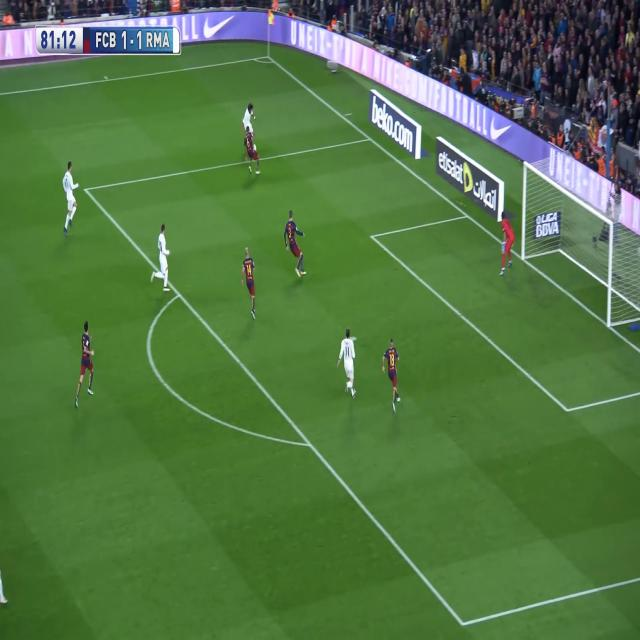Ball: (252, 143, 258, 151)
TEAM 1: (60, 160, 80, 237), (337, 331, 357, 401), (154, 223, 170, 292), (241, 99, 256, 134)
TEAM 2: (75, 322, 95, 406), (283, 211, 306, 281), (383, 338, 402, 411), (498, 212, 516, 277), (242, 250, 258, 320), (242, 124, 258, 176)
